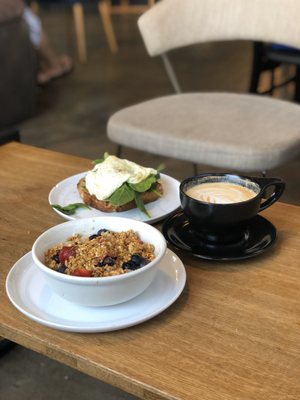pizza: (160, 173, 287, 259)
soup: (76, 154, 166, 213)
sushi: (30, 218, 168, 307)
